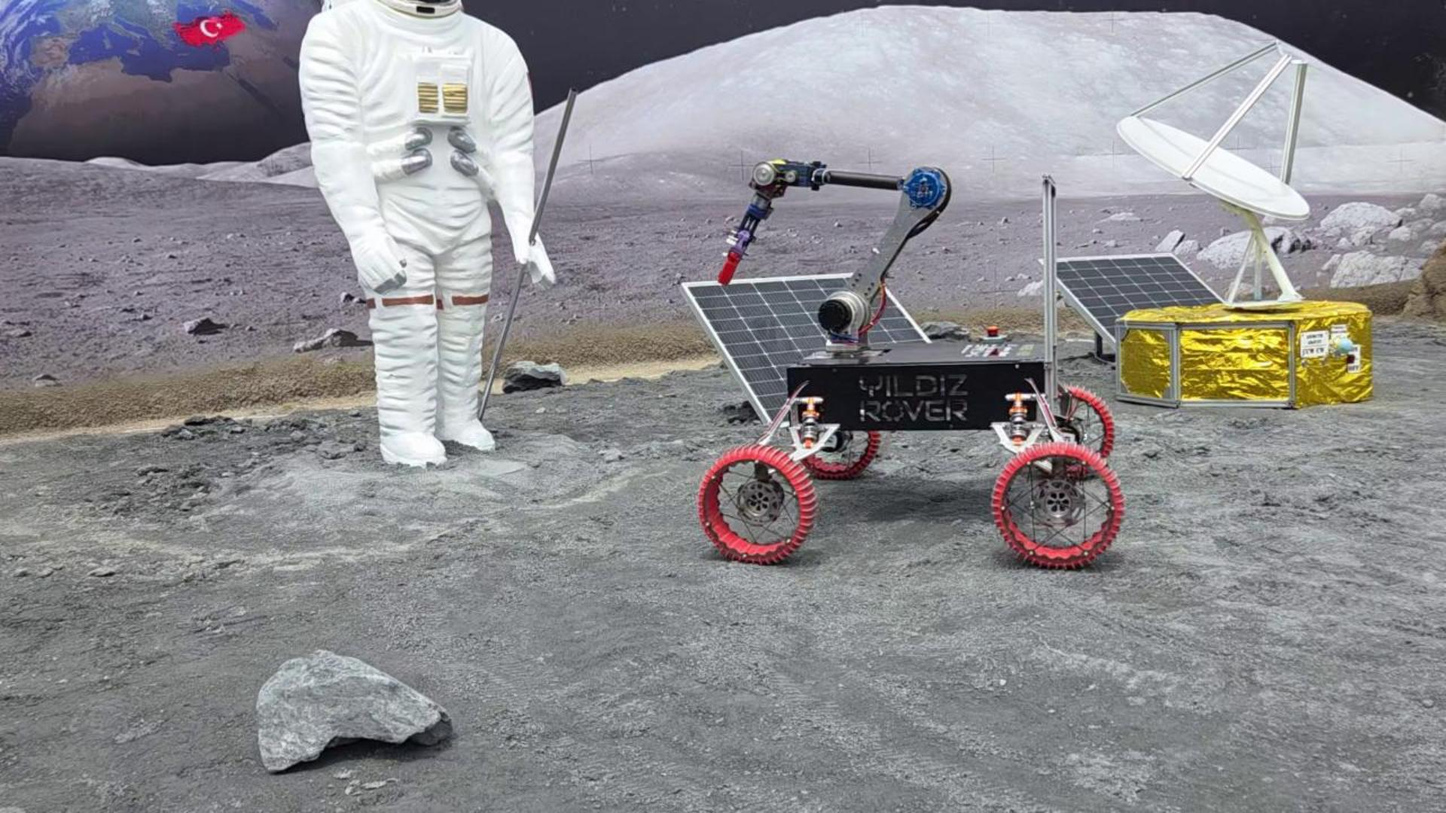rock: (256, 650, 443, 771), (503, 360, 564, 393), (293, 327, 372, 351)
